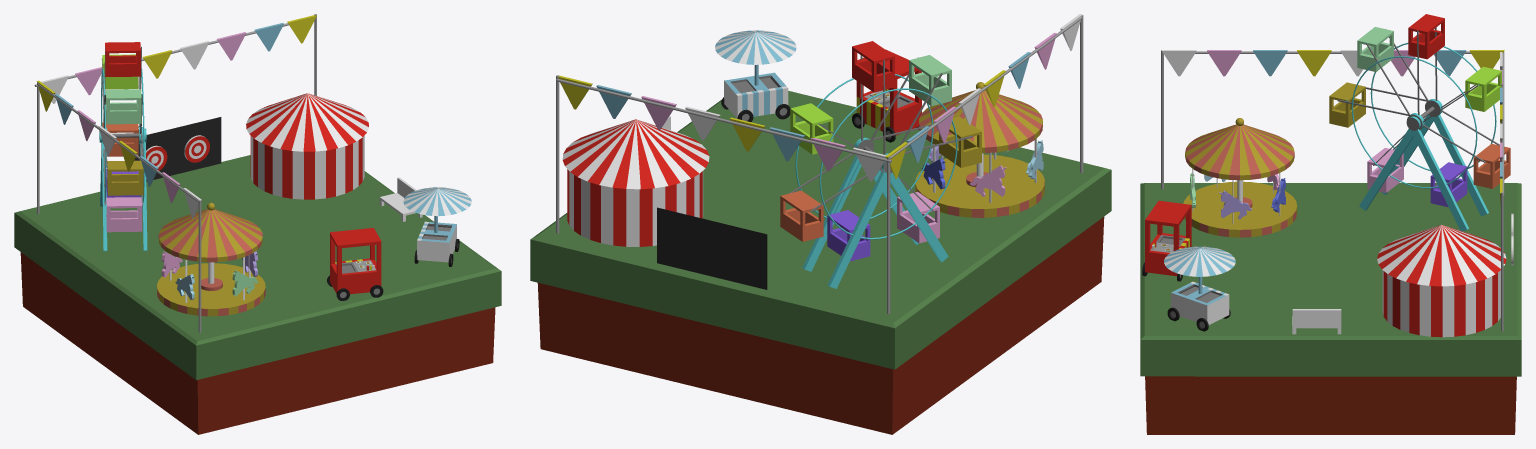
Rendered from feria.fbx.
3 views of the same model, side by side, from view 1: azimuth 30°, elevation 25°; view 2: azimuth 150°, elevation 25°; view 3: azimuth 270°, elevation 25° (orthographic). The views are drawn at different scales.
Parts seen in each view (by area): view 1: Cube.022, Cube.046, Cube.047, Cube.069, Cube.071, Cube.034, Cube.042, Cube.027, Cube.029, Cube.093, Cube.089, Cube.092 (+7 smaller); view 2: Cube.022, Cube.047, Cube.046, Cube.042, Cube.071, Cube.069, Cube.034, Cube.027, Cube.029, Cube.091, Cube.092, Cube.093 (+14 smaller); view 3: Cube.022, Cube.046, Cube.047, Cube.069, Cube.071, Cube.034, Cube.029, Cube.027, Cube.092, Cube.090, Cube.093, Cube.099 (+20 smaller).
Boxes of the visible parts, box(x1,y1,x2,y2) form: Cube.022: box(14, 155, 501, 434); Cube.046: box(250, 135, 364, 199); Cube.047: box(246, 93, 368, 151); Cube.069: box(158, 209, 262, 262); Cube.071: box(157, 263, 265, 316); Cube.034: box(330, 228, 381, 294); Cube.042: box(134, 117, 221, 181); Cube.027: box(403, 187, 471, 216); Cube.029: box(417, 221, 456, 262); Cube.093: box(105, 89, 141, 124); Cube.089: box(106, 197, 142, 232); Cube.092: box(105, 42, 140, 76); Cube.022: box(530, 91, 1111, 434); Cube.047: box(562, 119, 709, 189); Cube.046: box(567, 169, 703, 246); Cube.042: box(657, 207, 767, 289); Cube.071: box(915, 154, 1044, 217); Cube.069: box(919, 90, 1042, 153); Cube.034: box(856, 49, 921, 135); Cube.027: box(715, 30, 796, 64); Cube.029: box(724, 72, 788, 118); Cube.091: box(780, 190, 823, 241); Cube.092: box(852, 41, 894, 92); Cube.093: box(909, 55, 951, 106); Cube.022: box(1140, 183, 1521, 434); Cube.046: box(1382, 270, 1500, 337); Cube.047: box(1377, 225, 1506, 286); Cube.069: box(1185, 124, 1294, 180); Cube.071: box(1183, 181, 1297, 237); Cube.034: box(1145, 200, 1191, 276); Cube.029: box(1171, 281, 1229, 324); Cube.027: box(1164, 246, 1235, 276); Cube.092: box(1408, 14, 1444, 59); Cube.090: box(1465, 66, 1501, 111); Cube.093: box(1357, 27, 1393, 71); Cube.099: box(1329, 82, 1365, 127).
Bounding box in the file's own units: 2144 × 1838 × 2187.
